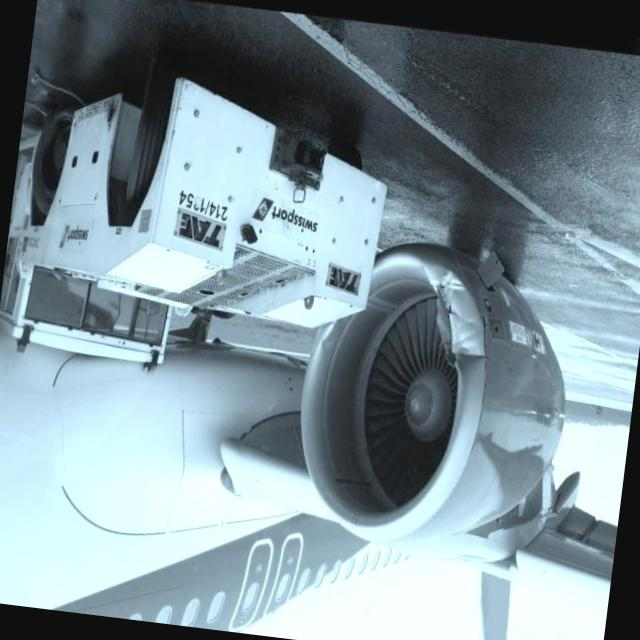crack: (426, 279, 464, 365)
dent: (311, 306, 348, 359), (454, 342, 486, 369), (442, 268, 466, 303)
